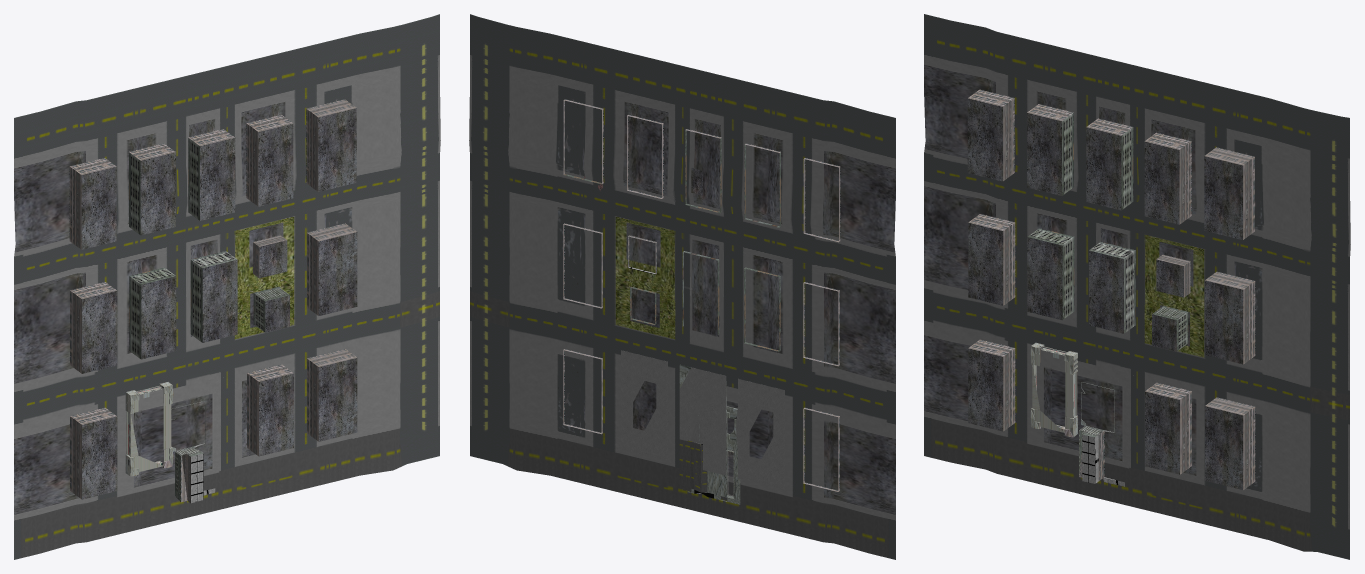
Rendered from deaddaysmap_wtf.obj.
3 views of the same model, side by side, from view 1: azimuth 30°, elevation 25°; view 2: azimuth 150°, elevation 25°; view 3: azimuth 330°, elevation 25° (orthographic).
Visible parts, largest first — view 1: group42, group33, group4, group5, group30, group6, group34, group29, group11, group31; view 2: group42, group36, group4, group5, group40, group30, group37, group29, group3; view 3: group42, group33, group4, group5, group30, group6, group29, group34, group31, group11.
Part boxes in pixels (x1,y1,x2,y2): group42: [14, 14, 440, 559]; group33: [81, 108, 357, 499]; group4: [69, 109, 318, 499]; group5: [70, 99, 356, 424]; group30: [129, 138, 289, 342]; group6: [125, 382, 173, 476]; group34: [259, 240, 289, 332]; group29: [129, 267, 175, 358]; group11: [190, 444, 215, 503]; group31: [175, 251, 237, 456]; group42: [469, 14, 895, 559]; group36: [621, 350, 784, 489]; group4: [563, 100, 840, 491]; group5: [563, 99, 839, 491]; group40: [698, 381, 740, 504]; group30: [630, 130, 780, 452]; group37: [688, 440, 707, 492]; group29: [564, 144, 780, 351]; group3: [679, 439, 691, 491]; group42: [924, 14, 1350, 559]; group33: [967, 98, 1243, 489]; group4: [1003, 98, 1255, 489]; group5: [968, 89, 1254, 415]; group30: [1062, 127, 1187, 319]; group6: [1030, 342, 1077, 436]; group29: [1028, 113, 1188, 351]; group34: [1152, 259, 1183, 351]; group31: [1079, 242, 1135, 437]; group11: [1082, 430, 1124, 486].
Bounding box in the file's own units: 660 × 660 × 36.39.
